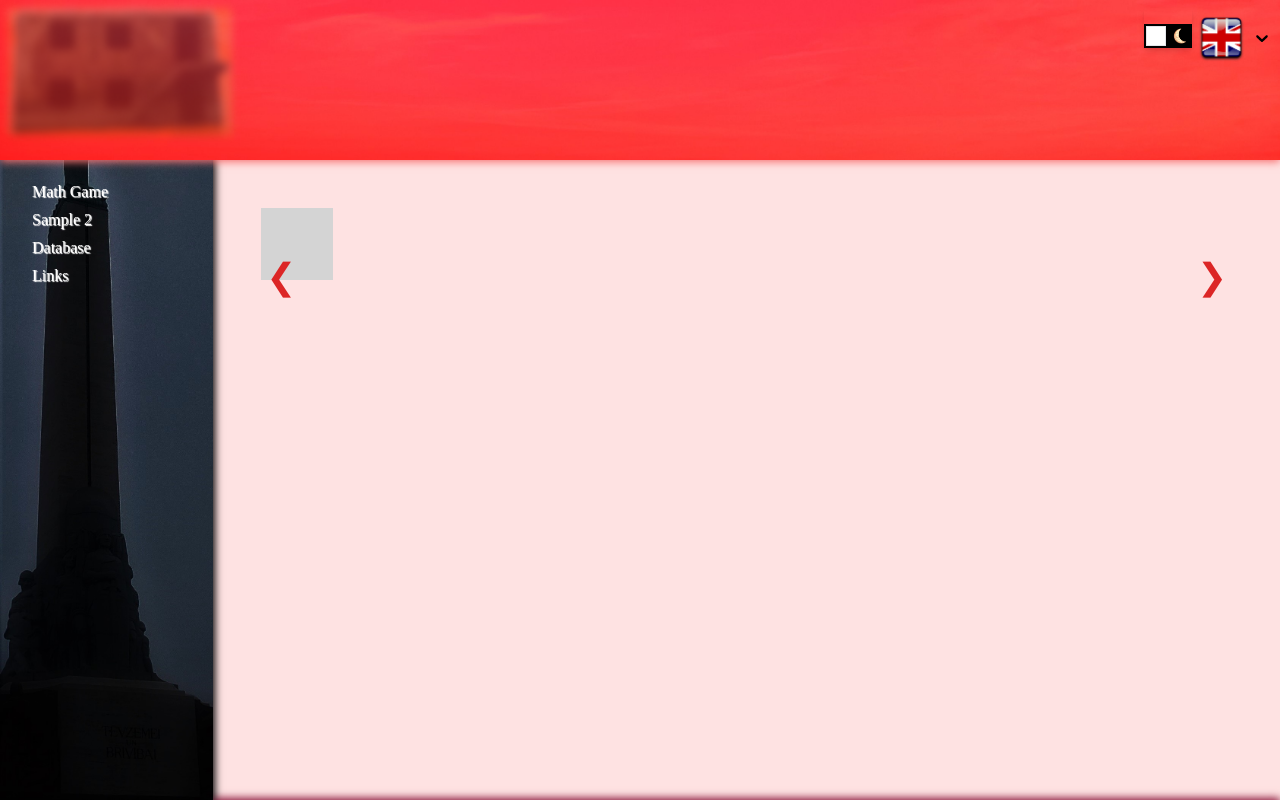
LeftNavBar › should render the navbar link Database and render content $content when the link is clicked
The width and height of the screenshot is (1280, 800).
Expected: the text "Database!" is not shown
Click the link "Database". click: [61, 248]
box: [32,239,91,256]
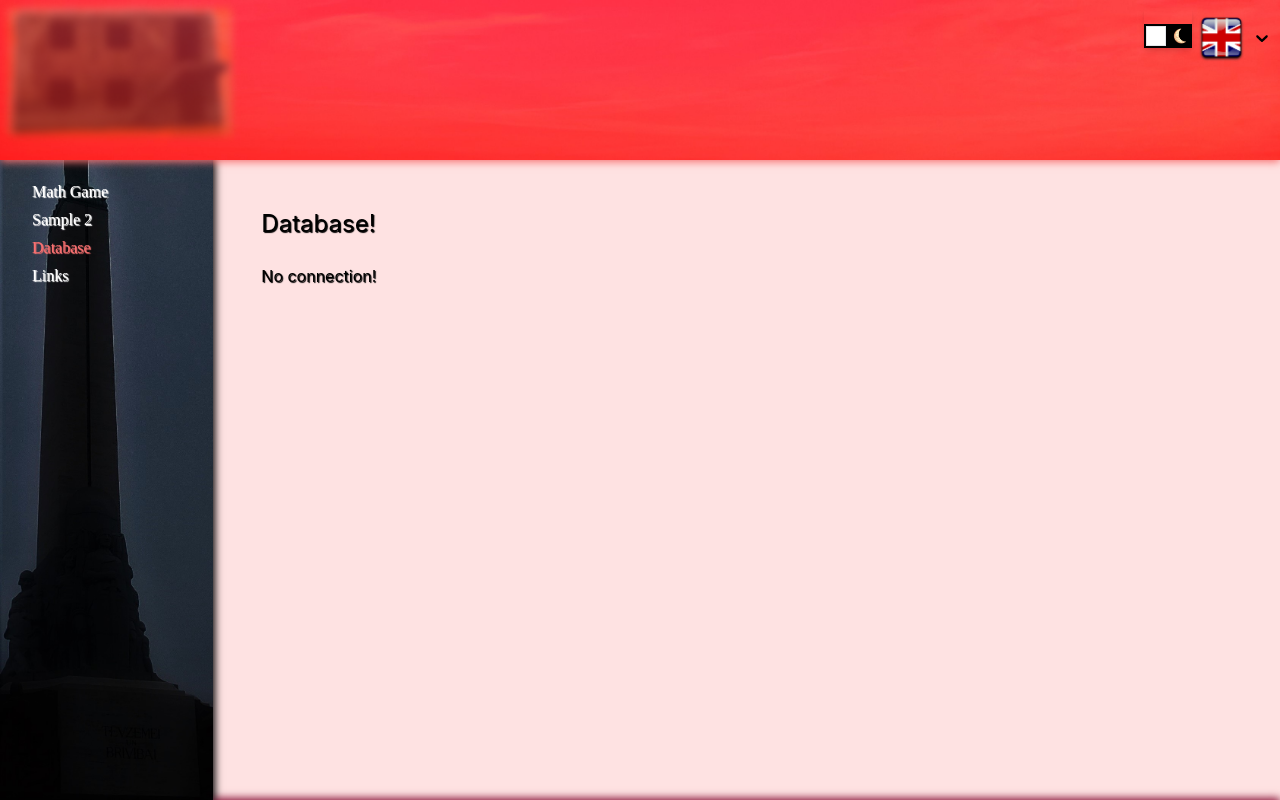
Expected: the heading "Database!" is shown, [261,209,376,238]
Expected: the picture with alt text "slideshow-0" is gone
